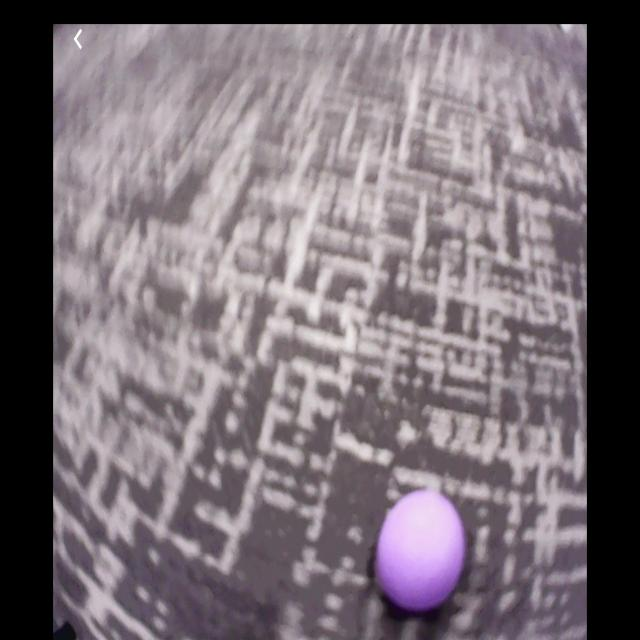ball: (377, 491, 466, 609)
